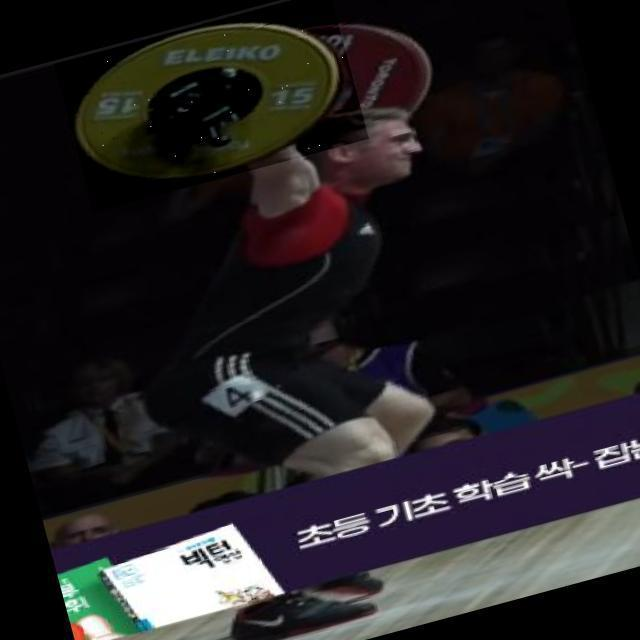barbell: (54, 1, 369, 212)
